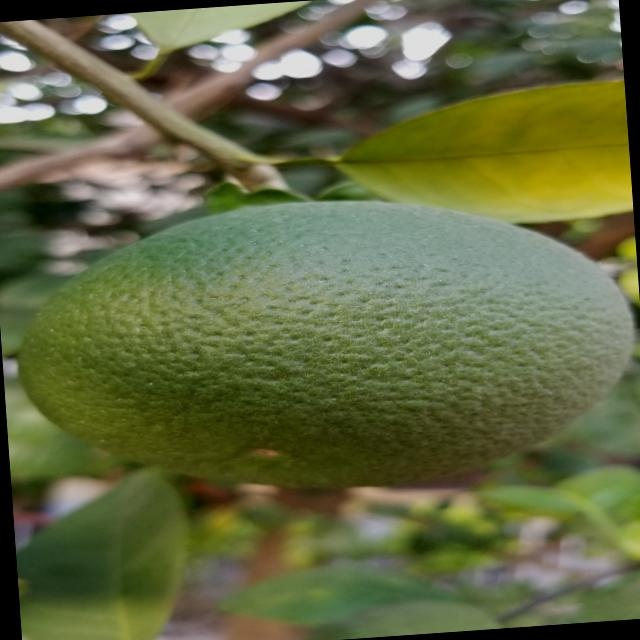agrume: (2, 181, 640, 518)
